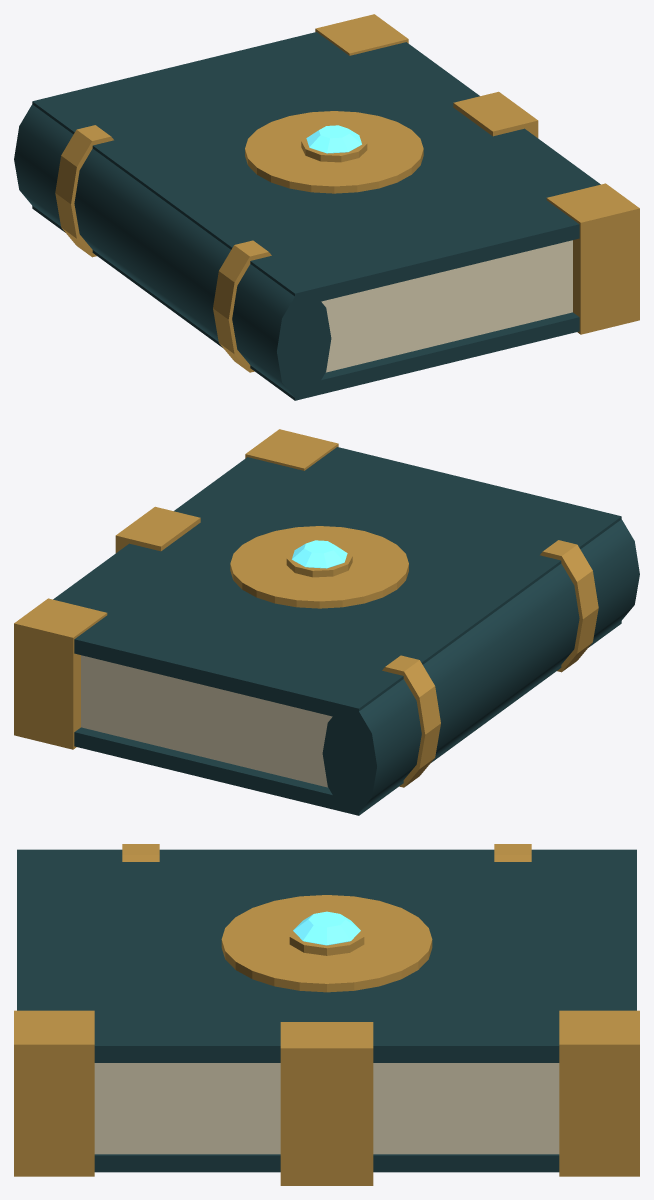
File: tome_aetheric.glb
3 views of the same model, one above another, from view 1: azimuth 30°, elevation 25°; view 2: azimuth 150°, elevation 25°; view 3: azimuth 270°, elevation 25° (orthographic). The views are drawn at different scales.
Parts seen in each view (by area): view 1: Tome_Aetheric_Tome_aetheric, Tome_Aetheric_Brass, Tome_Aetheric_Paper, Tome_Aetheric_Gem_aetheric; view 2: Tome_Aetheric_Tome_aetheric, Tome_Aetheric_Brass, Tome_Aetheric_Paper, Tome_Aetheric_Gem_aetheric; view 3: Tome_Aetheric_Tome_aetheric, Tome_Aetheric_Brass, Tome_Aetheric_Paper, Tome_Aetheric_Gem_aetheric.
Part boxes in pixels (bbox=[...]): Tome_Aetheric_Tome_aetheric: bbox=[14, 32, 600, 400]; Tome_Aetheric_Brass: bbox=[55, 14, 639, 372]; Tome_Aetheric_Paper: bbox=[321, 240, 572, 372]; Tome_Aetheric_Gem_aetheric: bbox=[306, 125, 361, 153]; Tome_Aetheric_Tome_aetheric: bbox=[53, 447, 639, 815]; Tome_Aetheric_Brass: bbox=[14, 429, 598, 787]; Tome_Aetheric_Paper: bbox=[81, 655, 332, 787]; Tome_Aetheric_Gem_aetheric: bbox=[292, 540, 347, 568]; Tome_Aetheric_Tome_aetheric: bbox=[17, 849, 636, 1172]; Tome_Aetheric_Brass: bbox=[14, 844, 639, 1185]; Tome_Aetheric_Paper: bbox=[94, 1063, 559, 1154]; Tome_Aetheric_Gem_aetheric: bbox=[293, 911, 360, 945].
Bounding box in the file's own units: 0.1655 × 0.0571 × 0.202.
